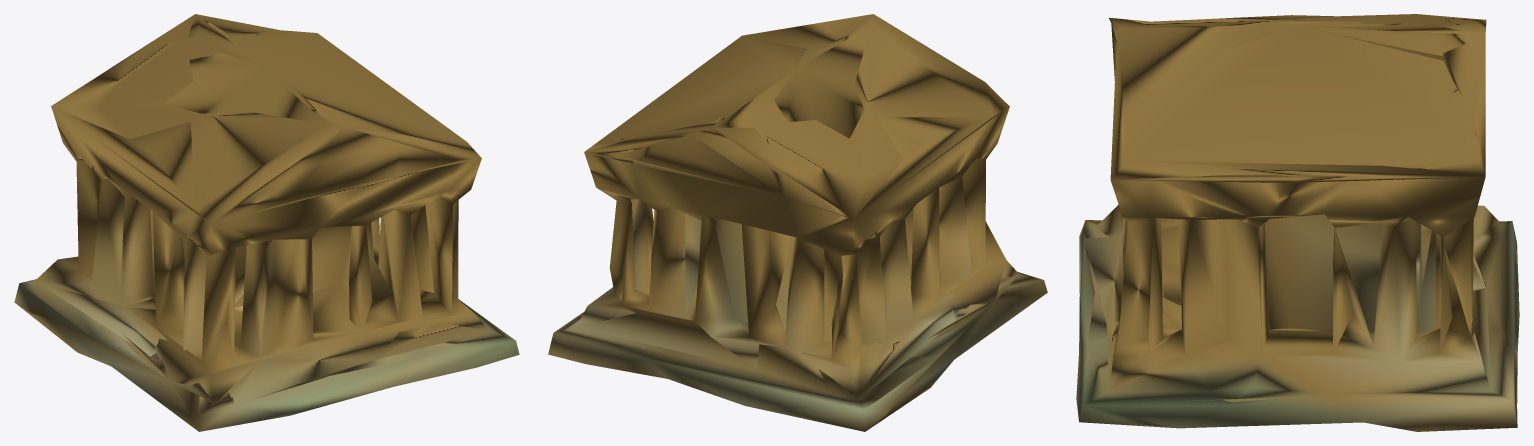
The model's file is gen3d-roman-temple-lod1.glb.
3 views of the same model, side by side, from view 1: azimuth 30°, elevation 25°; view 2: azimuth 150°, elevation 25°; view 3: azimuth 270°, elevation 25° (orthographic). The views are drawn at different scales.
Parts seen in each view (by area): view 1: part_0; view 2: part_0; view 3: part_0.
Part boxes in pixels (x1,y1,x2,y2): part_0: [14, 14, 519, 431]; part_0: [548, 14, 1047, 431]; part_0: [1076, 14, 1519, 431].
Bounding box in the file's own units: 1.29 × 0.9978 × 1.28.
